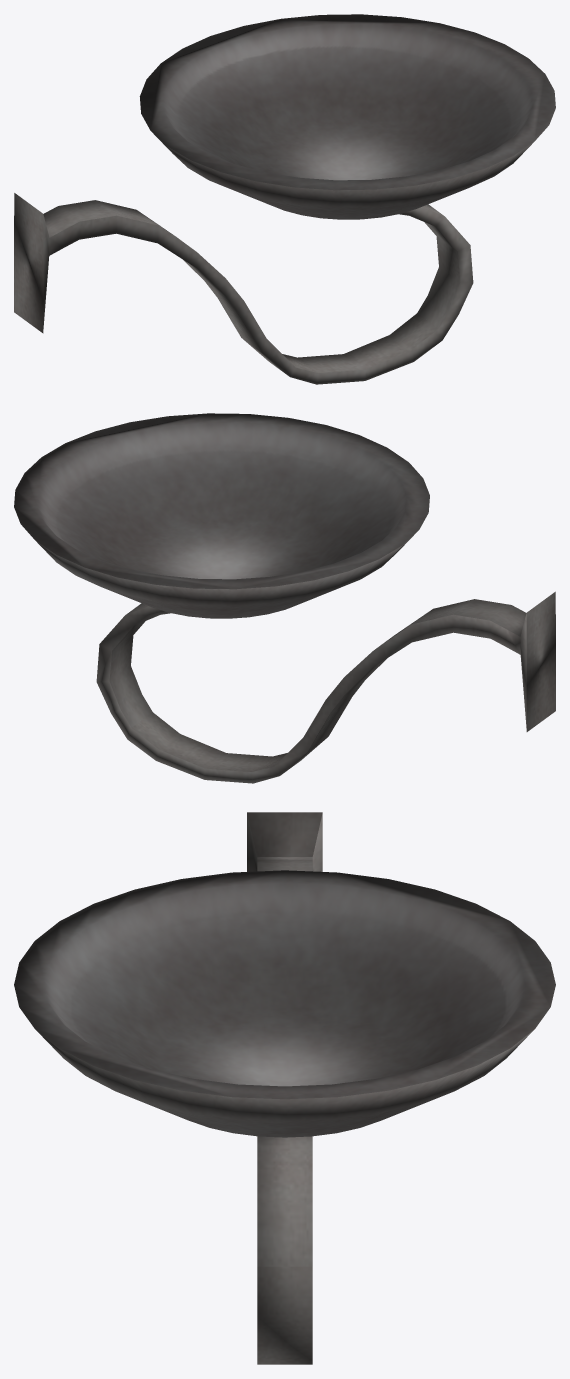
The model's file is WallCandleStickUnited_01.fbx.
The picture shows the model from 3 angles, top to bottom: view 1: azimuth 30°, elevation 25°; view 2: azimuth 150°, elevation 25°; view 3: azimuth 270°, elevation 25°; orthographic projection. The views are drawn at different scales.
Parts seen in each view (by area): view 1: Cube; view 2: Cube; view 3: Cube.
Boxes of the visible parts, box(x1,y1,x2,y2) form: Cube: box(14, 14, 555, 384); Cube: box(14, 413, 555, 783); Cube: box(14, 812, 555, 1364).
Size of the model in its own units: 277 by 144 by 200.
